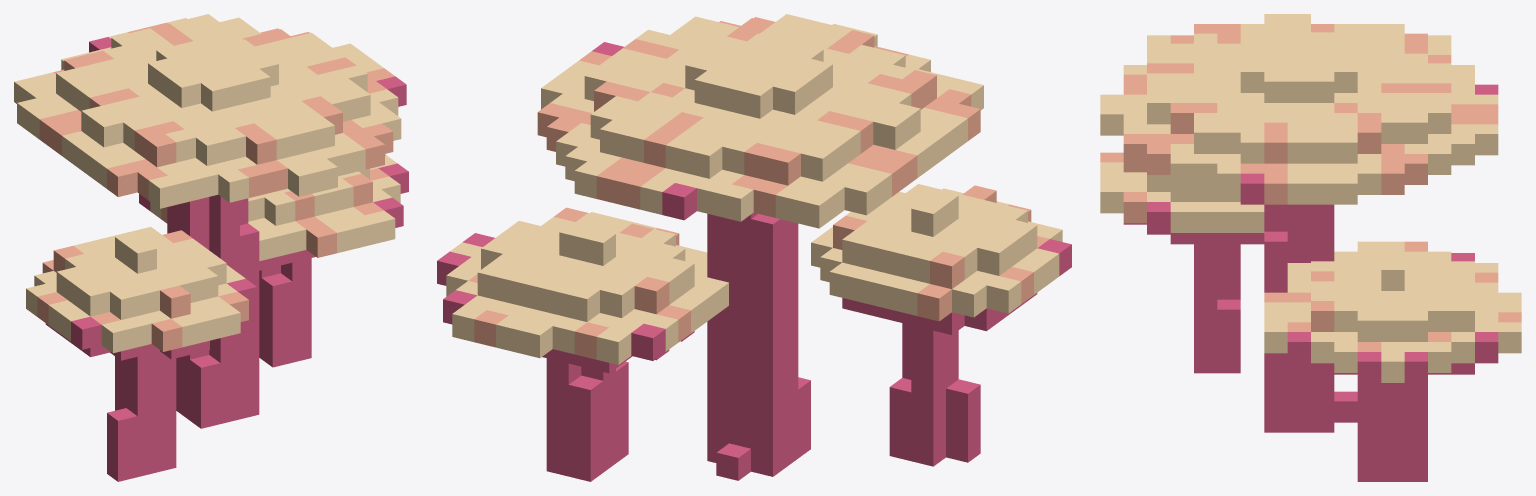
Rendered from table_coral.glb.
The picture shows the model from 3 angles, left to right: view 1: azimuth 30°, elevation 25°; view 2: azimuth 150°, elevation 25°; view 3: azimuth 270°, elevation 25°; orthographic projection. The views are drawn at different scales.
Size of the model in its own units: 0.9167 by 0.7083 by 0.75.
